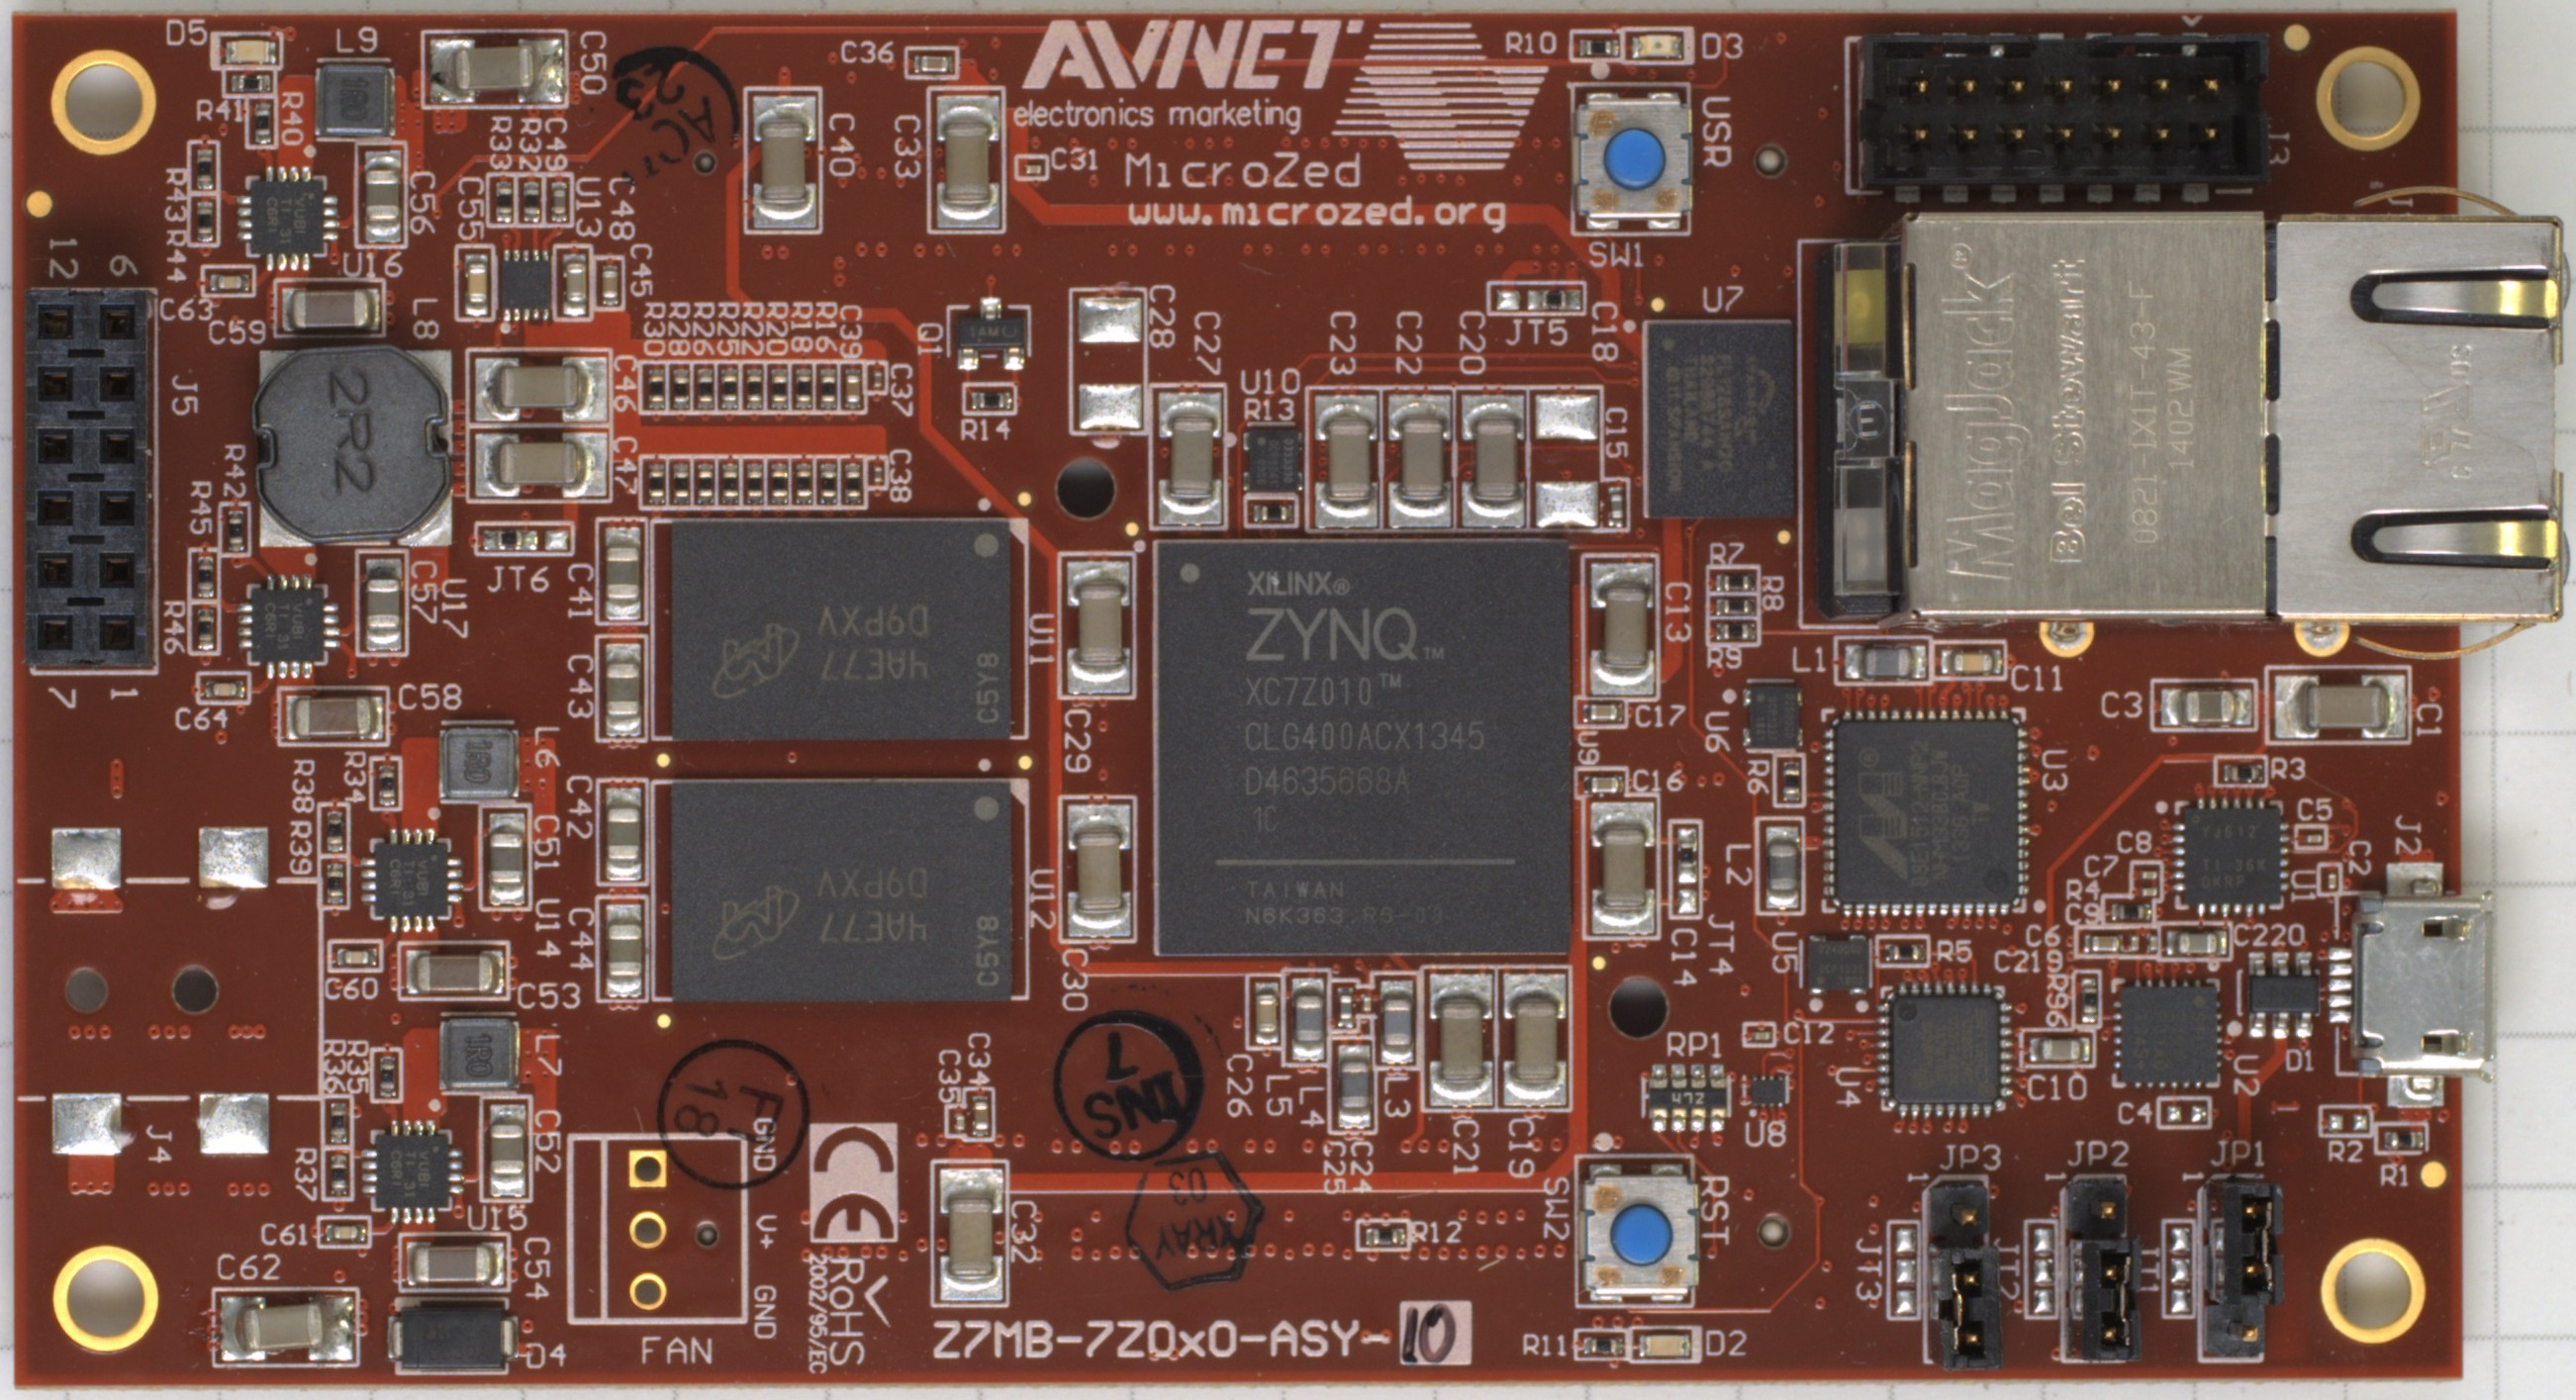button SW1: (1572, 91, 1693, 233)
button SW2: (1571, 1153, 1700, 1309)
capacitor C1: (2271, 672, 2405, 740)
capacitor C10: (2026, 1034, 2091, 1062)
capacitor C11: (1938, 648, 2004, 676)
capacitor C12: (1750, 1029, 1771, 1043)
capacitor C13: (1588, 560, 1657, 697)
capacitor C14: (1588, 800, 1655, 936)
capacitor C15: (1604, 484, 1624, 526)
capacitor C16: (1581, 774, 1623, 795)
capacitor C17: (1581, 703, 1623, 726)
capacitor C19: (1500, 971, 1569, 1109)
capacitor C2: (2326, 872, 2336, 891)
capacitor C20: (1459, 393, 1528, 528)
capacitor C21: (1428, 971, 1495, 1109)
capacitor C219: (2145, 931, 2159, 953)
capacitor C22: (1386, 391, 1452, 528)
capacitor C220: (2166, 929, 2228, 957)
capacitor C23: (1310, 391, 1379, 528)
capacitor C24: (1359, 993, 1372, 1014)
capacitor C25: (1336, 986, 1355, 1029)
capacitor C26: (1252, 981, 1281, 1047)
capacitor C27: (1155, 390, 1222, 526)
capacitor C29: (1066, 557, 1131, 695)
capacitor C3: (2157, 686, 2250, 728)
capacitor C30: (1066, 802, 1131, 938)
capacitor C31: (1021, 162, 1043, 176)
capacitor C32: (936, 1167, 1004, 1303)
capacitor C33: (931, 93, 1002, 229)
capacitor C34: (969, 1093, 991, 1136)
capacitor C35: (953, 1112, 967, 1131)
capacitor C36: (912, 52, 953, 74)
capacitor C37: (871, 367, 883, 390)
capacitor C38: (871, 462, 885, 484)
capacitor C39: (843, 366, 862, 410)
capacitor C40: (748, 95, 817, 231)
capacitor C41: (602, 524, 641, 621)
capacitor C42: (602, 784, 645, 883)
capacitor C43: (602, 641, 643, 738)
capacitor C44: (602, 902, 645, 998)
capacitor C45: (598, 260, 621, 307)
capacitor C46: (472, 353, 609, 421)
capacitor C47: (472, 431, 609, 498)
capacitor C48: (559, 252, 590, 319)
capacitor C49: (548, 179, 567, 222)
capacitor C5: (2304, 831, 2324, 847)
capacitor C50: (426, 36, 566, 105)
capacitor C51: (486, 810, 524, 907)
capacitor C52: (486, 1103, 528, 1197)
capacitor C53: (403, 947, 505, 995)
capacitor C54: (403, 1238, 505, 1288)
capacitor C55: (462, 252, 488, 317)
capacitor C56: (362, 148, 400, 245)
capacitor C57: (364, 555, 403, 652)
capacitor C58: (283, 691, 385, 741)
capacitor C59: (279, 284, 379, 333)
capacitor C6: (2129, 933, 2140, 953)
capacitor C60: (335, 947, 378, 969)
capacitor C61: (322, 1222, 367, 1243)
capacitor C62: (217, 1293, 355, 1364)
capacitor C63: (207, 269, 250, 291)
capacitor C64: (202, 678, 247, 698)
capacitor C7: (2140, 886, 2159, 898)
capacitor C8: (2138, 867, 2159, 883)
capacitor C9: (2083, 933, 2126, 953)
component text" "0821-1X1T-43-F 1402 WM: (2124, 276, 2200, 553)
component text" "4A377 D9PXV: (809, 600, 941, 691), (814, 862, 935, 953)
component text" "Bel Stewart: (2045, 257, 2090, 567)
component text" "M 08E1512-NNP2 NHM3390.8JW 1236 A0P TW: (1850, 733, 1997, 891)
component text" "VU81 T1 31 CBR1: (260, 597, 310, 655), (385, 853, 433, 912), (386, 1143, 435, 1202)
component text" "VUBI TI 31 CGRI: (262, 191, 310, 248)
component text" "XILINX ZYNQTM XC7Z010TM CLG400ACX1345 D4635668A 1C TAIWAN N6K36: (1236, 564, 1497, 943)
component text" "YJ612 T1 36K 0KRP: (2195, 821, 2269, 895)
component text" 1AM: (967, 322, 1002, 343)
component text" 1R0: (336, 72, 374, 122), (460, 736, 495, 786), (464, 1029, 497, 1081)
component text" 2R2: (324, 366, 379, 502)
component text" 472: (1671, 1090, 1709, 1109)
component text" C5Y8: (971, 648, 1004, 731), (972, 912, 1002, 991)
component text" M: (716, 621, 788, 690), (717, 879, 791, 947)
component text" MagJack: (1936, 252, 2024, 584)
connector J2: (2328, 860, 2497, 1110)
connector J3: (1841, 29, 2269, 203)
connector J5: (21, 288, 153, 672)
connector JP1: (2204, 1305, 2267, 1362)
connector JP2: (2060, 1176, 2128, 1241)
connector JP3: (1926, 1181, 1990, 1243)
connector UNKNOWN: (1795, 183, 2574, 660)
connector unknown: (622, 1140, 672, 1309)
diode D1: (2247, 950, 2319, 1040)
diode D4: (388, 1297, 521, 1378)
ic U1: (2173, 798, 2288, 916)
ic U10: (1241, 428, 1304, 491)
ic U11: (667, 517, 1014, 743), (666, 778, 1012, 1003)
ic U13: (498, 247, 550, 324)
ic U14: (359, 828, 464, 934)
ic U15: (360, 1119, 466, 1224)
ic U16: (236, 166, 340, 276)
ic U17: (236, 572, 338, 679)
ic U2: (2110, 978, 2221, 1090)
ic U3: (1819, 707, 2028, 916)
ic U4: (1876, 979, 2012, 1117)
ic U5: (1804, 933, 1869, 997)
ic U6: (1741, 679, 1804, 753)
ic U7: (1643, 321, 1795, 519)
ic U8: (1750, 1074, 1785, 1109)
ic U9: (1152, 540, 1572, 957)
inductor L1: (1841, 643, 1926, 679)
inductor L2: (1764, 822, 1798, 912)
inductor L3: (1379, 978, 1414, 1066)
inductor L4: (1335, 1041, 1371, 1131)
inductor L5: (1290, 976, 1326, 1062)
inductor L6: (438, 726, 521, 798)
inductor L7: (438, 1017, 521, 1093)
inductor L8: (252, 347, 455, 548)
inductor L9: (314, 64, 397, 138)
jumper JP1: (2207, 1176, 2286, 1307)
jumper JP2: (2064, 1238, 2143, 1364)
jumper JP3: (1929, 1241, 2002, 1371)
led D2: (1636, 1333, 1691, 1359)
led D3: (1629, 34, 1683, 59)
led D5: (210, 33, 279, 69)
pads C18: (1531, 391, 1600, 526)
pads C28: (1074, 293, 1143, 429)
pads C4: (2164, 1102, 2207, 1126)
pads J4: (48, 826, 274, 1160)
pads JT1: (2167, 1222, 2193, 1317)
pads JT2: (2031, 1222, 2055, 1316)
pads JT3: (1891, 1226, 1916, 1316)
pads R2: (2326, 1112, 2367, 1133)
resistor R1: (2383, 1129, 2426, 1148)
resistor R10: (1576, 36, 1619, 57)
resistor R11: (1579, 1334, 1623, 1355)
resistor R12: (1362, 1224, 1407, 1248)
resistor R13: (1250, 502, 1293, 524)
resistor R14: (967, 390, 1014, 410)
resistor R16: (817, 366, 838, 409)
resistor R18: (791, 366, 812, 409)
resistor R20: (767, 367, 788, 410)
resistor R22: (743, 367, 764, 410)
resistor R25: (717, 367, 738, 410)
resistor R26: (693, 366, 714, 409)
resistor R28: (671, 367, 691, 410)
resistor R3: (2223, 762, 2262, 783)
resistor R30: (645, 367, 666, 410)
resistor R32: (521, 179, 540, 222)
resistor R33: (493, 179, 512, 224)
resistor R34: (376, 764, 398, 809)
resistor R35: (378, 1053, 398, 1098)
resistor R36: (329, 1102, 348, 1145)
resistor R37: (329, 1153, 348, 1198)
resistor R38: (324, 810, 343, 853)
resistor R39: (324, 862, 345, 905)
resistor R4: (2110, 902, 2152, 922)
resistor R40: (252, 98, 272, 143)
resistor R41: (229, 72, 271, 91)
resistor R42: (224, 507, 247, 553)
resistor R43: (193, 147, 214, 191)
resistor R44: (193, 198, 214, 243)
resistor R45: (193, 553, 216, 598)
resistor R46: (193, 607, 216, 652)
resistor R5: (1881, 943, 1924, 962)
resistor R6: (1781, 760, 1802, 803)
resistor R7: (1714, 572, 1755, 593)
resistor R8: (1714, 597, 1755, 617)
resistor R9: (1714, 621, 1755, 641)
resistor R96: (2078, 976, 2098, 1022)
resistor jumper" JT4: (1676, 826, 1698, 916)
resistor jumper" JT5: (1493, 286, 1581, 312)
resistor jumper" JT6: (479, 528, 571, 552)
resistor network" RP1: (1638, 1064, 1735, 1133)
resistor unknown: (647, 460, 666, 505), (671, 462, 690, 507), (695, 460, 714, 505), (721, 462, 740, 507), (745, 462, 764, 507), (793, 460, 812, 505), (819, 460, 838, 505), (771, 460, 788, 505), (845, 460, 862, 505)
text "AC 23: (612, 59, 724, 167)
text "F1 18: (664, 1071, 791, 1148)
text "INS 7: (1072, 1028, 1186, 1141)
text "RoHS 2002/95/EC: (805, 1250, 866, 1374)
text "XRAY 03: (1152, 1164, 1245, 1264)
text "Z7MB-7Z0x0-ASY-10: (929, 1303, 1457, 1369)
text "electronics marketing: (1012, 97, 1305, 138)
text "www.microzed.org: (1126, 191, 1507, 236)
text 1: (2269, 1098, 2304, 1121), (105, 686, 141, 702), (2179, 1169, 2205, 1184), (1904, 1169, 1931, 1183), (2043, 1169, 2069, 1183)
text 12: (45, 236, 79, 283)
text 6: (107, 250, 141, 279)
text 7: (43, 684, 79, 714)
text AVNET: (1021, 17, 1369, 91)
text C1: (2414, 700, 2443, 738)
text C10: (2024, 1072, 2090, 1103)
text C11: (2009, 660, 2066, 695)
text C12: (1781, 1019, 1836, 1047)
text C13: (1662, 579, 1693, 645)
text C14: (1669, 926, 1700, 991)
text C15: (1604, 405, 1629, 462)
text C16: (1631, 767, 1683, 793)
text C17: (1635, 703, 1688, 728)
text C18: (1590, 298, 1621, 366)
text C19: (1505, 1117, 1536, 1179)
text C2: (2347, 840, 2373, 878)
text C20: (1455, 307, 1488, 376)
text C21: (1450, 1117, 1481, 1176)
text C219: (1991, 947, 2064, 974)
text C22: (1393, 309, 1424, 376)
text C220: (2233, 921, 2307, 948)
text C23: (1328, 310, 1360, 378)
text C24: (1348, 1140, 1376, 1197)
text C25: (1321, 1140, 1347, 1197)
text C26: (1222, 1052, 1255, 1117)
text C27: (1190, 307, 1226, 379)
text C28: (1148, 283, 1176, 352)
text C29: (1062, 707, 1093, 776)
text C3: (2098, 688, 2145, 721)
text C30: (1060, 948, 1091, 1016)
text C31: (1050, 145, 1098, 172)
text C32: (1010, 1198, 1038, 1267)
text C33: (891, 112, 922, 179)
text C34: (966, 1031, 993, 1086)
text C35: (936, 1047, 962, 1103)
text C36: (840, 38, 895, 66)
text C37: (888, 360, 914, 419)
text C38: (886, 447, 912, 505)
text C39: (840, 303, 862, 357)
text C4: (2116, 1100, 2154, 1128)
text C40: (828, 109, 855, 179)
text C41: (566, 562, 595, 621)
text C42: (566, 774, 595, 843)
text C43: (564, 652, 593, 721)
text C44: (567, 905, 595, 972)
text C45: (629, 240, 653, 300)
text C46: (614, 353, 636, 412)
text C47: (612, 433, 638, 495)
text C48: (607, 174, 636, 238)
text C49: (543, 116, 567, 171)
text C5: (2293, 797, 2336, 822)
text C50: (578, 26, 607, 97)
text C51: (533, 812, 560, 872)
text C52: (533, 1109, 564, 1176)
text C53: (516, 981, 585, 1012)
text C54: (522, 1236, 553, 1302)
text C55: (453, 174, 486, 243)
text C56: (407, 169, 438, 238)
text C57: (410, 557, 438, 628)
text C58: (397, 681, 466, 712)
text C59: (205, 319, 267, 347)
text C6: (2023, 922, 2064, 948)
text C60: (324, 976, 379, 1002)
text C61: (259, 1221, 310, 1248)
text C62: (212, 1252, 283, 1283)
text C63: (159, 297, 214, 321)
text C64: (172, 705, 231, 733)
text C7: (2083, 853, 2119, 879)
text C8: (2116, 829, 2152, 855)
text C9: (2062, 903, 2102, 926)
text CE: (812, 1124, 895, 1241)
text D1: (2283, 1048, 2316, 1074)
text D2: (1704, 1328, 1747, 1359)
text D3: (1698, 29, 1745, 62)
text D4: (524, 1338, 571, 1376)
text D5: (164, 17, 207, 48)
text FAN: (638, 1331, 716, 1366)
text GND: (750, 1114, 779, 1174), (752, 1283, 781, 1343)
text J: (2383, 191, 2417, 210)
text J2: (2393, 814, 2423, 859)
text J3: (2264, 119, 2292, 169)
text J4: (143, 1122, 174, 1167)
text J5: (169, 372, 202, 421)
text JP1: (2209, 1136, 2267, 1169)
text JP2: (2066, 1138, 2131, 1169)
text JP3: (1936, 1141, 2004, 1174)
text JT1: (2129, 1238, 2160, 1298)
text JT2: (1991, 1231, 2019, 1310)
text JT3: (1852, 1234, 1883, 1305)
text JT4: (1705, 910, 1738, 981)
text JT5: (1504, 317, 1569, 348)
text JT6: (485, 564, 552, 598)
text L1: (1790, 645, 1828, 674)
text L2: (1723, 840, 1754, 888)
text L3: (1383, 1072, 1410, 1121)
text L4: (1297, 1083, 1326, 1131)
text L5: (1262, 1072, 1295, 1122)
text L6: (531, 722, 562, 772)
text L7: (533, 1031, 564, 1081)
text L8: (407, 293, 443, 341)
text L9: (331, 24, 379, 55)
text MicroZed: (1121, 148, 1367, 191)
text Q1: (914, 321, 945, 359)
text R1: (2378, 1162, 2410, 1190)
text R10: (1502, 29, 1559, 57)
text R11: (1521, 1331, 1567, 1359)
text R12: (1410, 1221, 1464, 1245)
text R13: (1241, 398, 1295, 422)
text R14: (957, 417, 1012, 443)
text R16: (814, 298, 840, 353)
text R18: (788, 298, 812, 353)
text R2: (2326, 1140, 2366, 1166)
text R20: (764, 298, 788, 359)
text R22: (741, 300, 766, 357)
text R25: (717, 300, 740, 357)
text R26: (691, 298, 716, 357)
text R28: (667, 300, 691, 359)
text R3: (2269, 755, 2307, 781)
text R30: (641, 300, 667, 359)
text R32: (517, 114, 543, 172)
text R33: (486, 114, 514, 171)
text R34: (343, 750, 367, 805)
text R35: (347, 1038, 369, 1097)
text R36: (322, 1036, 347, 1095)
text R37: (291, 1145, 319, 1203)
text R38: (290, 759, 316, 816)
text R39: (286, 819, 314, 876)
text R4: (2064, 876, 2102, 902)
text R40: (279, 88, 303, 147)
text R41: (193, 97, 245, 124)
text R42: (222, 441, 247, 500)
text R43: (162, 164, 186, 224)
text R44: (164, 226, 190, 286)
text R45: (186, 478, 216, 538)
text R46: (160, 597, 186, 657)
text R5: (1935, 936, 1973, 966)
text R6: (1745, 759, 1771, 798)
text R7: (1709, 540, 1748, 566)
text R8: (1762, 572, 1785, 614)
text R9: (1705, 647, 1743, 669)
text R96: (2043, 972, 2071, 1028)
text RP1: (1662, 1029, 1724, 1062)
text RST: (1697, 1171, 1731, 1250)
text SW1: (1585, 240, 1645, 271)
text SW2: (1541, 1174, 1571, 1241)
text U1: (2290, 867, 2317, 905)
text U10: (1238, 366, 1302, 397)
text U11: (1028, 610, 1057, 669)
text U12: (1029, 866, 1059, 934)
text U13: (574, 174, 603, 238)
text U14: (533, 897, 562, 962)
text U15: (466, 1203, 529, 1233)
text U16: (340, 250, 403, 279)
text U17: (440, 574, 471, 641)
text U2: (2231, 1053, 2260, 1098)
text U3: (2040, 747, 2069, 793)
text U4: (1833, 1064, 1864, 1109)
text U5: (1769, 929, 1798, 976)
text U6: (1702, 709, 1733, 755)
text U7: (1700, 284, 1745, 314)
text U8: (1743, 1121, 1788, 1150)
text U9: (1576, 731, 1600, 764)
text USR: (1698, 95, 1735, 171)
text V: (753, 1210, 781, 1252)
transistor Q1: (955, 293, 1026, 374)
